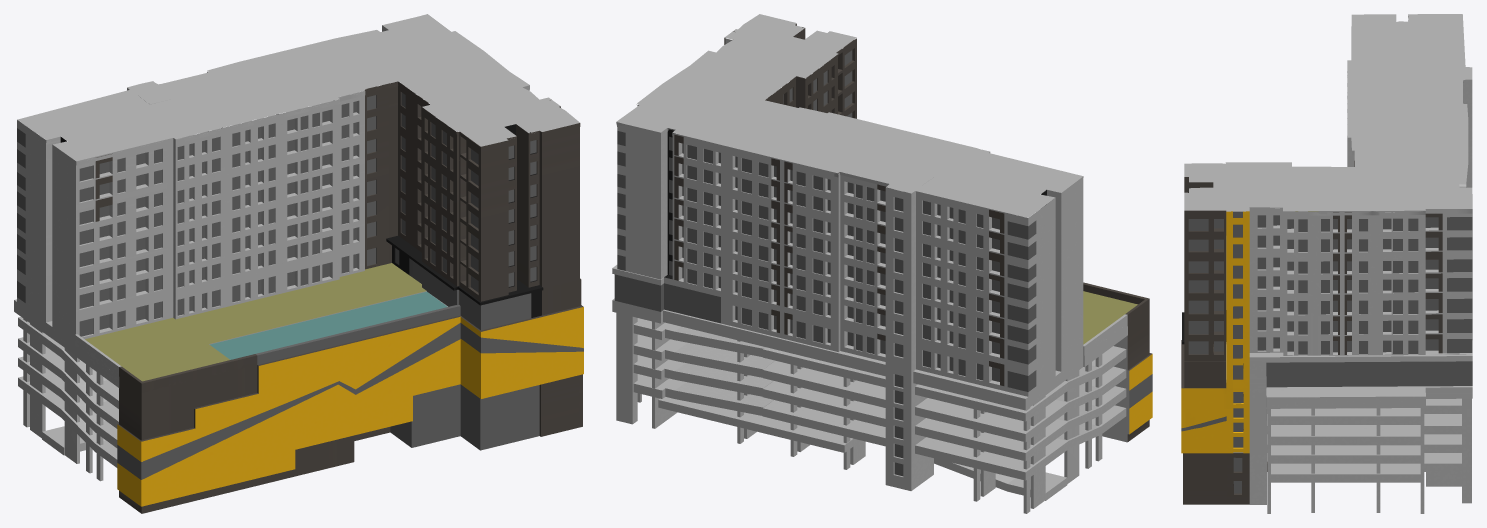
File: final_cut8.glb
The picture shows the model from 3 angles, left to right: view 1: azimuth 30°, elevation 25°; view 2: azimuth 150°, elevation 25°; view 3: azimuth 270°, elevation 25°; orthographic projection. The views are drawn at different scales.
Visible parts, largest first — view 1: polySurface77 (×9); view 2: polySurface77 (×6); view 3: polySurface77 (×6).
Boxes of the visible parts, bbox=[...] form: polySurface77 (×9): bbox=[14, 14, 583, 513]; polySurface77 (×6): bbox=[612, 14, 1152, 513]; polySurface77 (×6): bbox=[1181, 14, 1472, 513].
Size of the model in its own units: 4.69 by 3.1 by 2.77.
11 materials, 11 textured.
